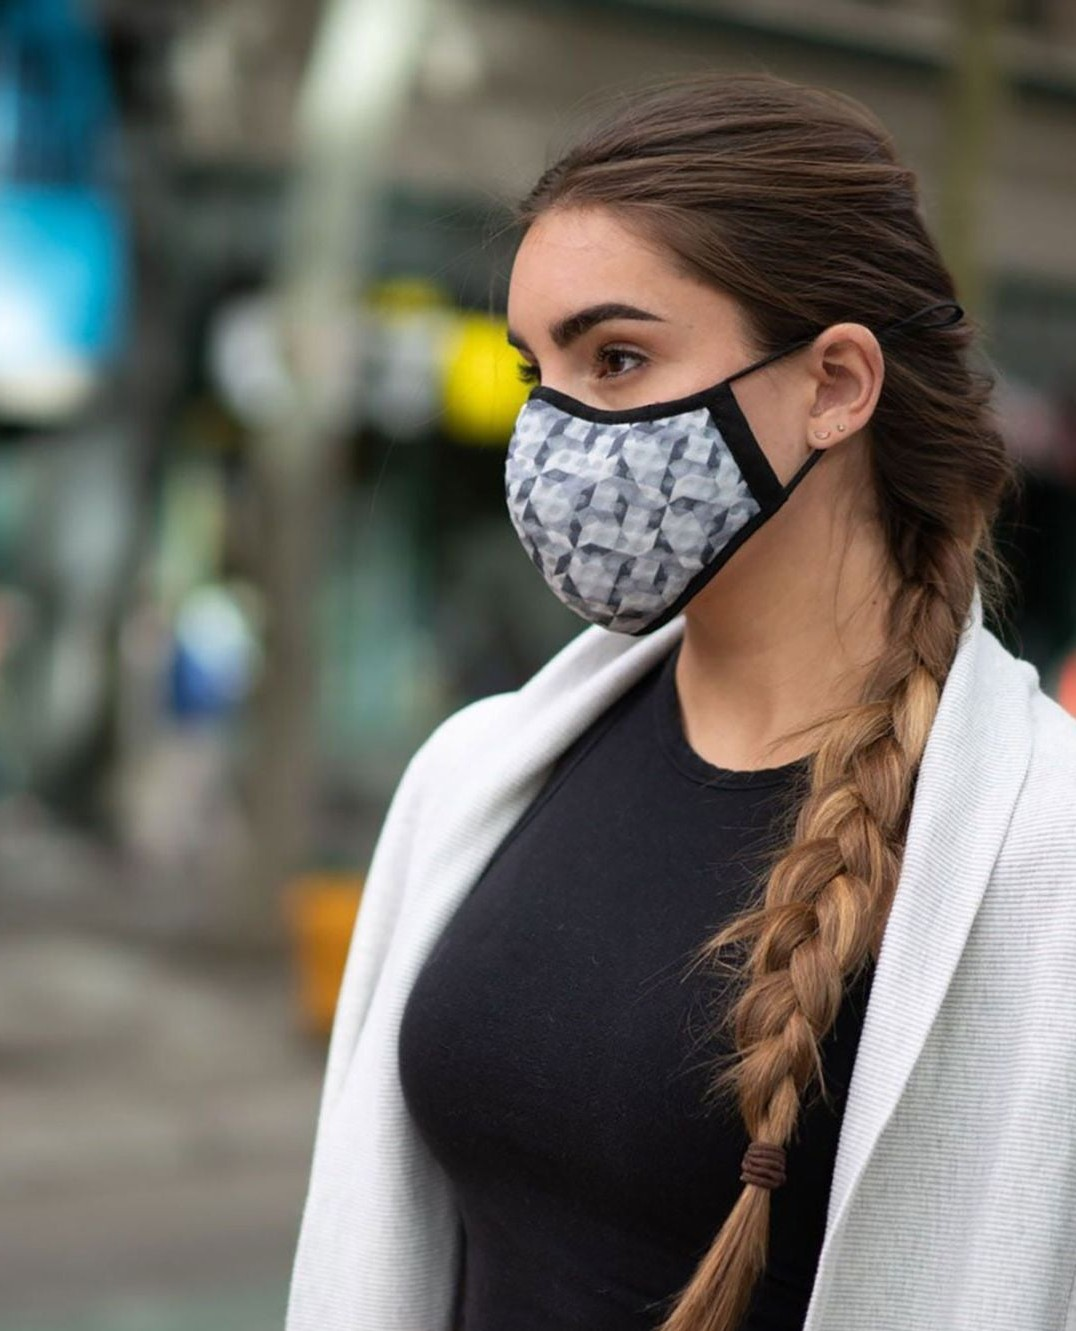with_mask: (494, 196, 943, 696)
